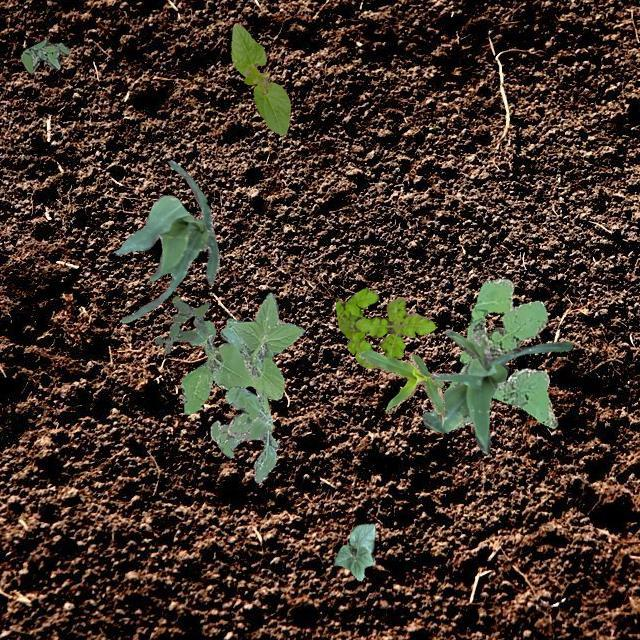crop: (422, 328, 572, 452), (112, 160, 218, 322), (230, 22, 290, 134), (356, 348, 444, 422), (332, 522, 374, 580)
weed: (444, 277, 556, 428), (180, 292, 304, 413), (334, 286, 434, 366), (223, 386, 276, 482), (154, 296, 208, 352), (210, 419, 278, 456), (20, 38, 68, 72)
